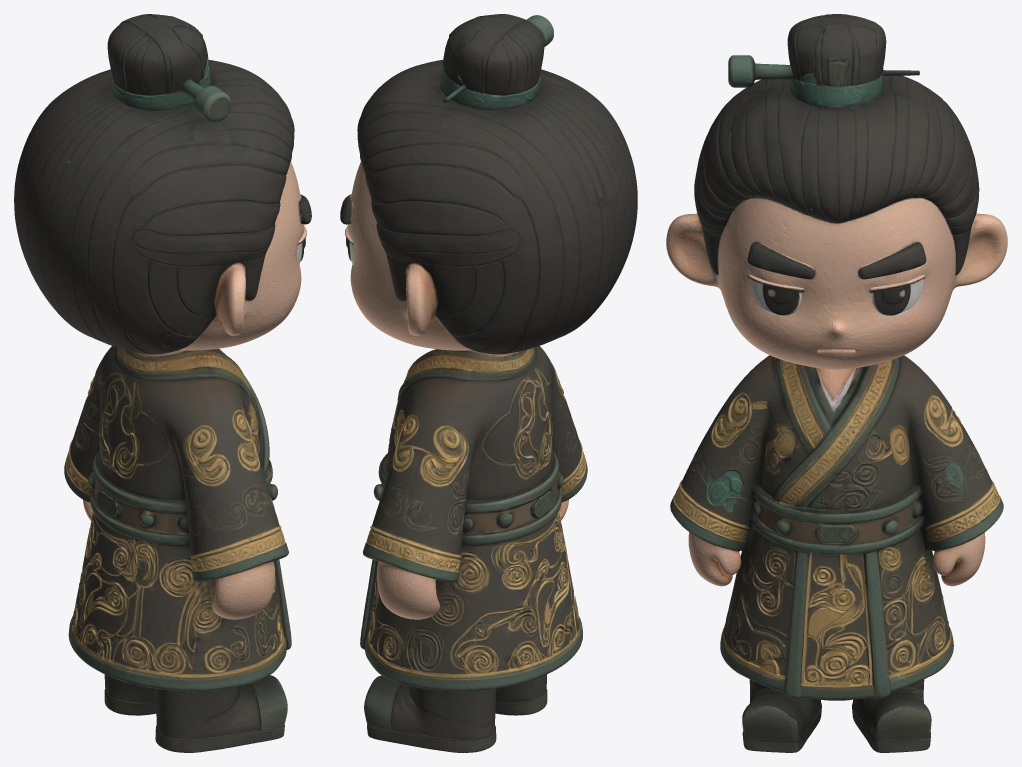
3 views of the same model, side by side, from view 1: azimuth 30°, elevation 25°; view 2: azimuth 150°, elevation 25°; view 3: azimuth 270°, elevation 25° (orthographic).
Parts seen in each view (by area): view 1: tripo_node_a5d59be2-7f1f-4867-9521-f74a8e8b4f03; view 2: tripo_node_a5d59be2-7f1f-4867-9521-f74a8e8b4f03; view 3: tripo_node_a5d59be2-7f1f-4867-9521-f74a8e8b4f03.
Part boxes in pixels (left/top/right/bottom): tripo_node_a5d59be2-7f1f-4867-9521-f74a8e8b4f03: left=14, top=14, right=311, bottom=752; tripo_node_a5d59be2-7f1f-4867-9521-f74a8e8b4f03: left=340, top=14, right=637, bottom=752; tripo_node_a5d59be2-7f1f-4867-9521-f74a8e8b4f03: left=666, top=14, right=1007, bottom=752.
Size of the model in its own units: 0.3802 by 1 by 0.4486.
1 material, 1 textured.
